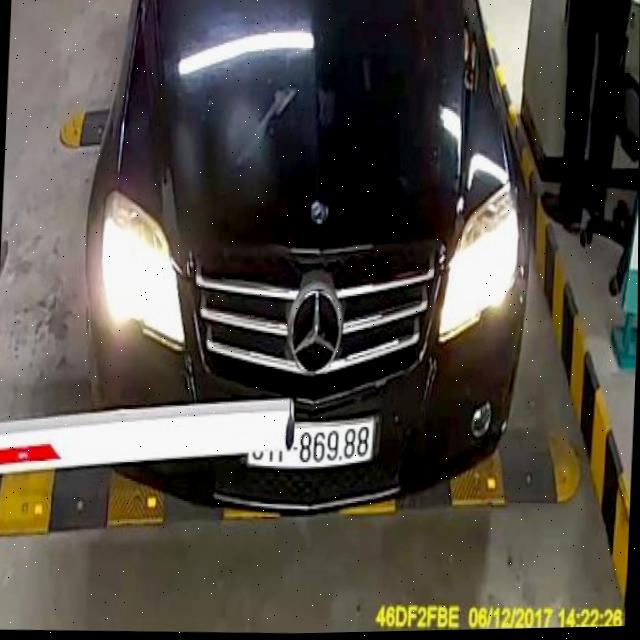car: (77, 0, 538, 522)
plate: (235, 413, 381, 475)
